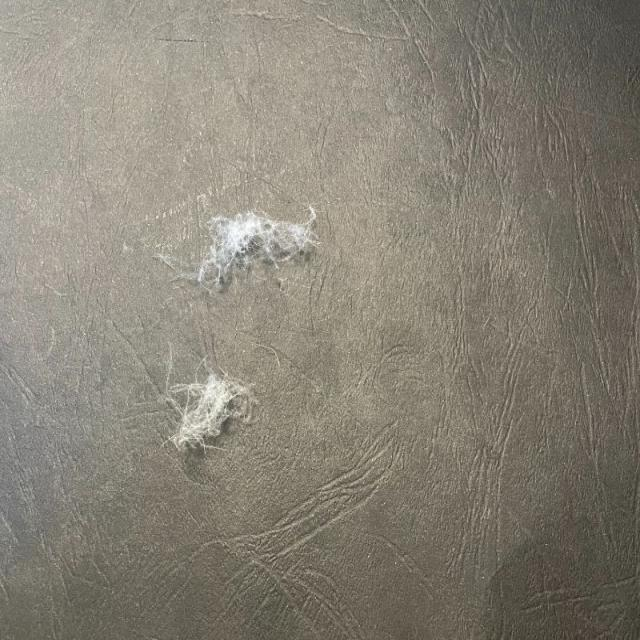feather: (186, 200, 317, 291), (165, 369, 270, 451)
